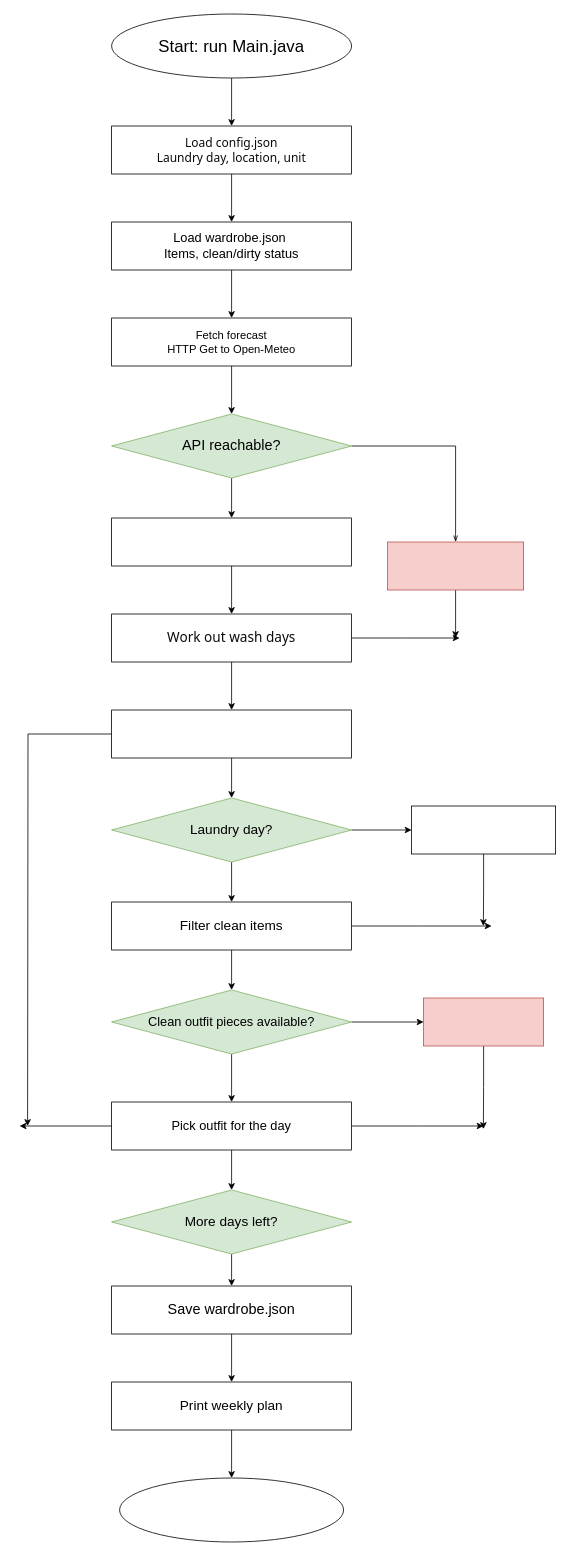
This 570x1556 diagram has some shape labels left out. Each missing label, with the centre of its shape:
"End" goes at point 231,1509.
"For each day of the week" goes at point 231,733.
"Mark all items clean" goes at point 483,829.
"Parse JSON with Gson" goes at point 231,541.
"Print warning: no clean item fits" goes at point 483,1021.
"Typed-in forecast" goes at point 455,565.
